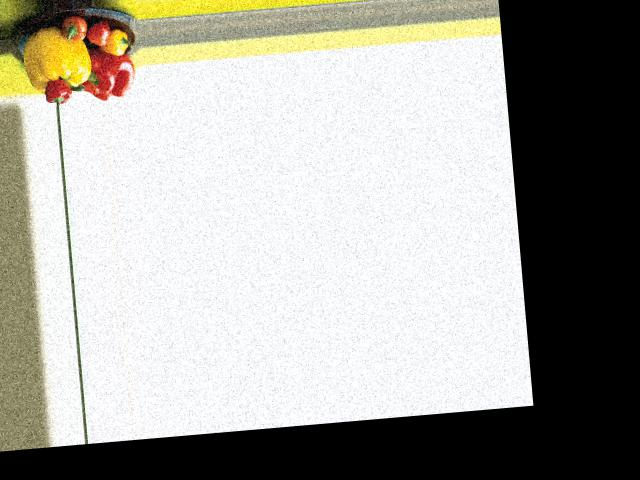bell_pepper: (102, 29, 132, 57)
